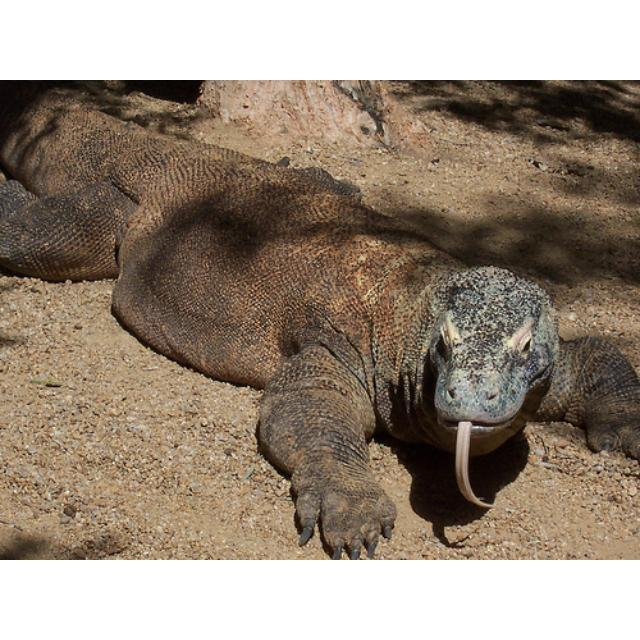KomodoDragon: (0, 87, 636, 556)
